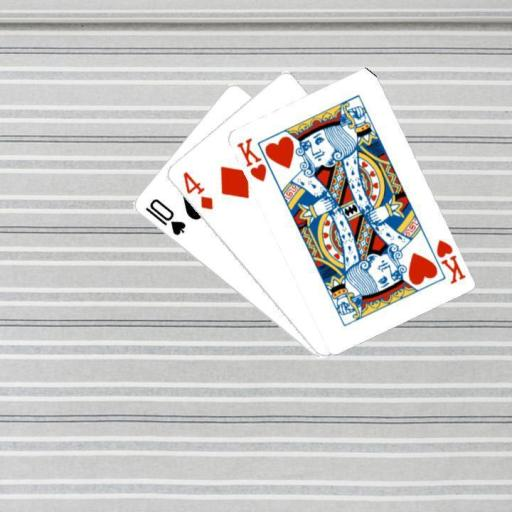card-corner: (142, 195, 187, 237), (233, 134, 268, 184), (432, 236, 466, 285), (179, 169, 215, 211)
